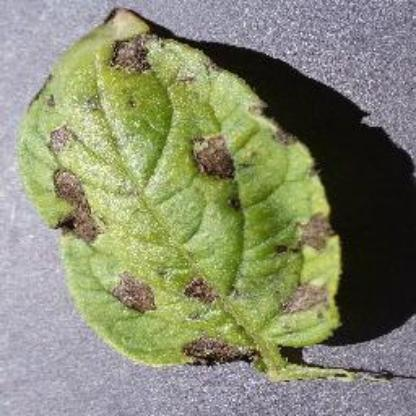Early-Blight: (19, 6, 402, 386)
